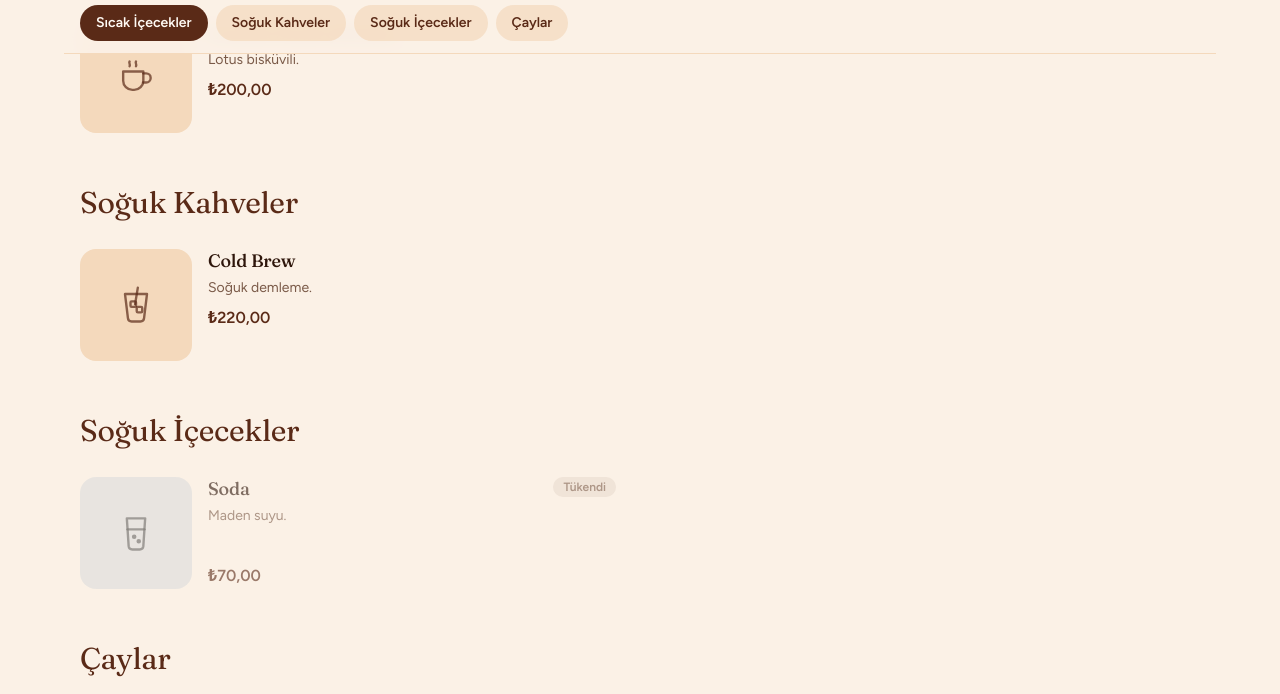
MenuPage product dialog › opens a product when its card is clicked, but not a sold-out one
This screenshot has width=1280, height=694.
(page scrolled)
Click the element "Soda Tükendi Maden suyu. ₺70,00": (136, 533) [68,465,628,601]
(page scrolled)
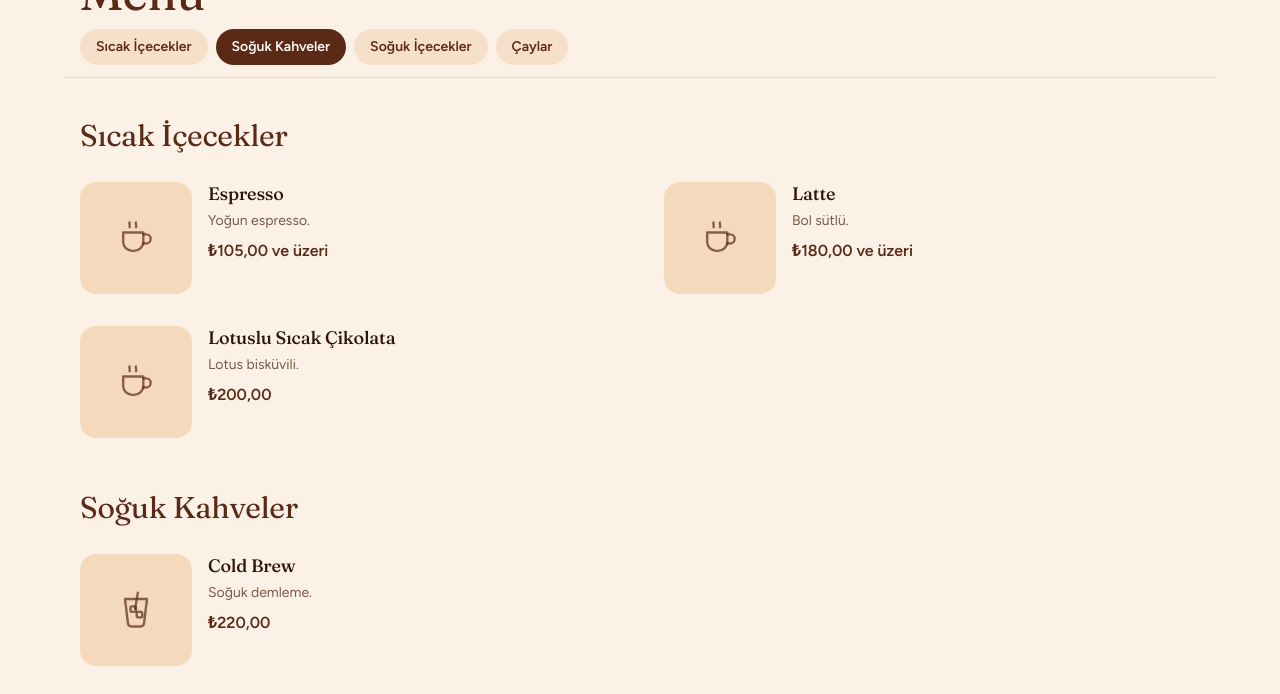
Click the button "Espresso Yoğun espresso. ₺105,00 ve üzeri": (136, 238) [68,170,628,306]
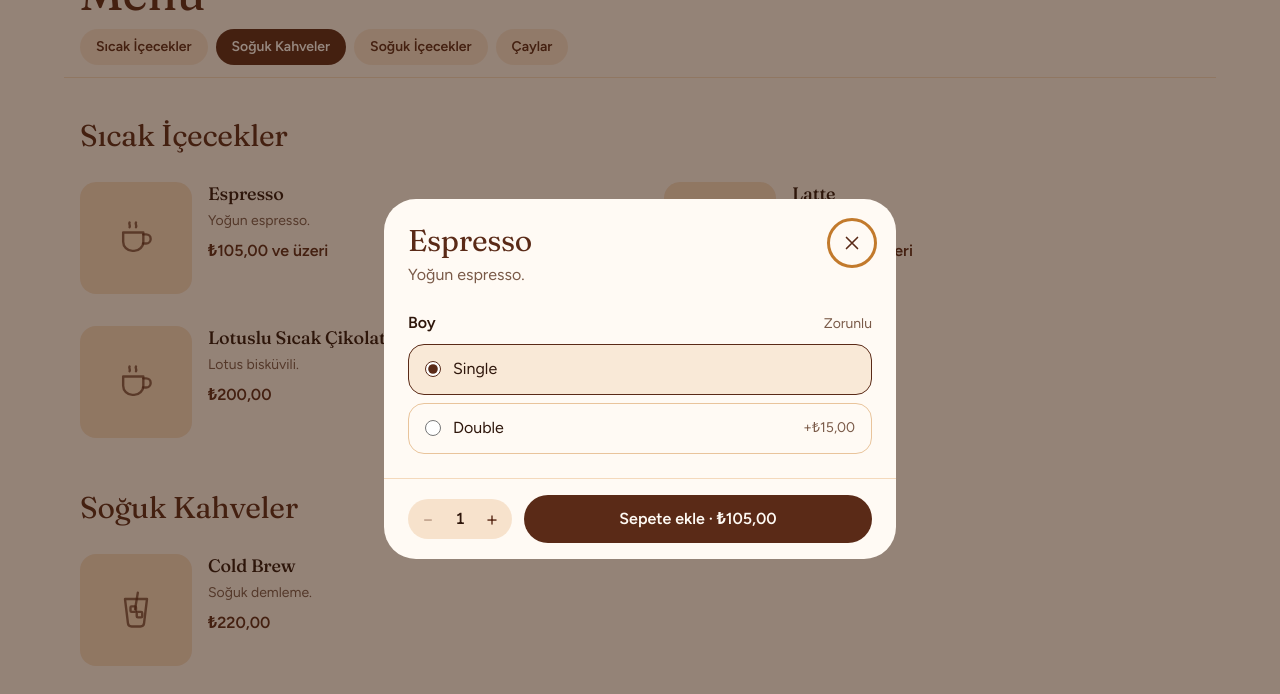
Now the dialog "Espresso" is shown, box [384,198,896,560]
